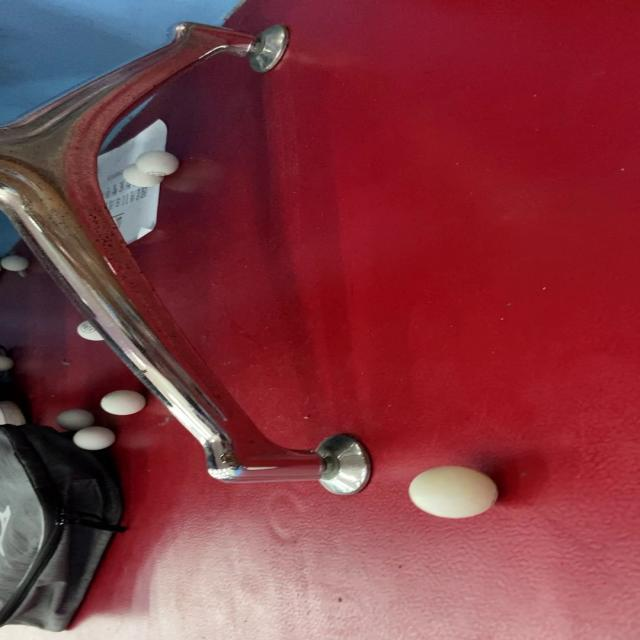ping-pong-ball: (405, 464, 503, 522), (97, 388, 155, 418), (130, 148, 183, 180), (68, 423, 120, 453)
